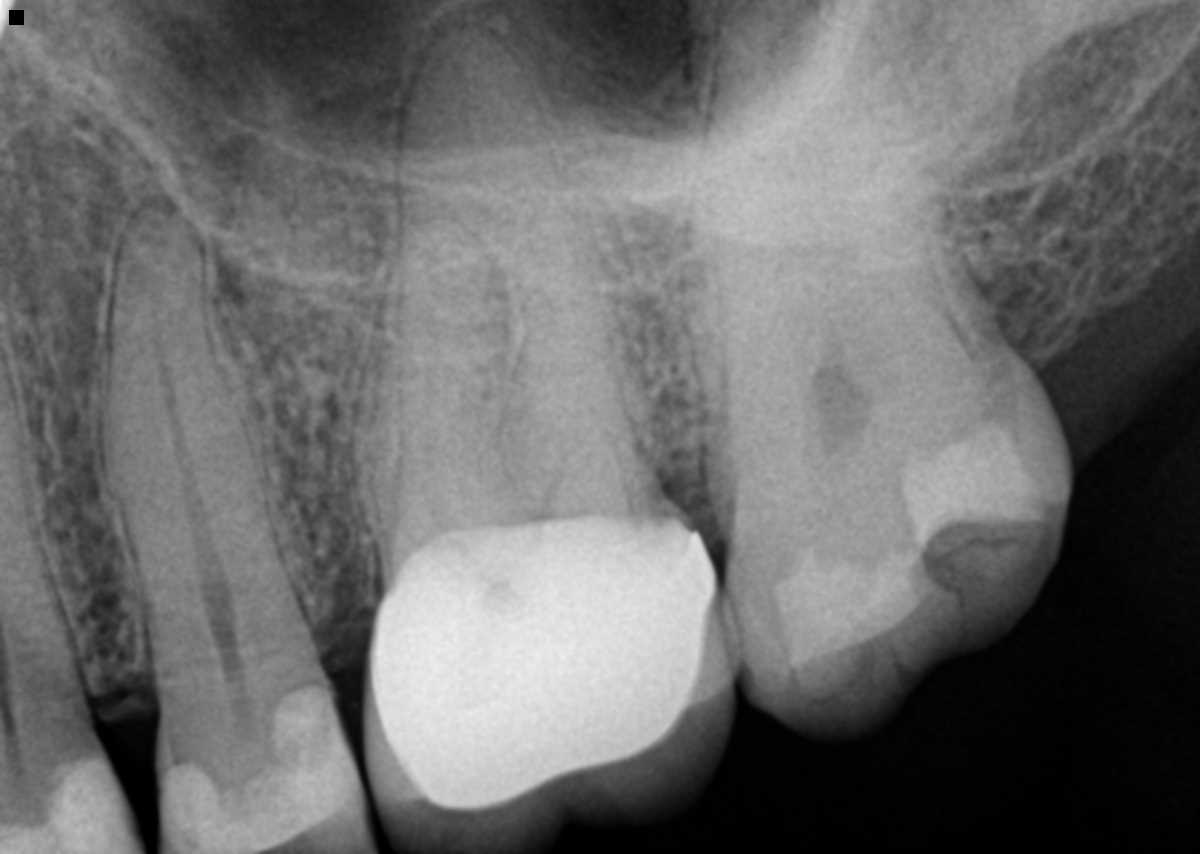Distal Canal: (551, 399, 570, 479)
Distal Root: (497, 188, 658, 498)
Main Canal: (153, 317, 235, 657)
Main Root: (685, 0, 998, 491), (105, 207, 318, 674), (0, 338, 91, 719)
Mesial Root: (358, 219, 522, 555)
Palatal Root: (387, 19, 647, 570)
